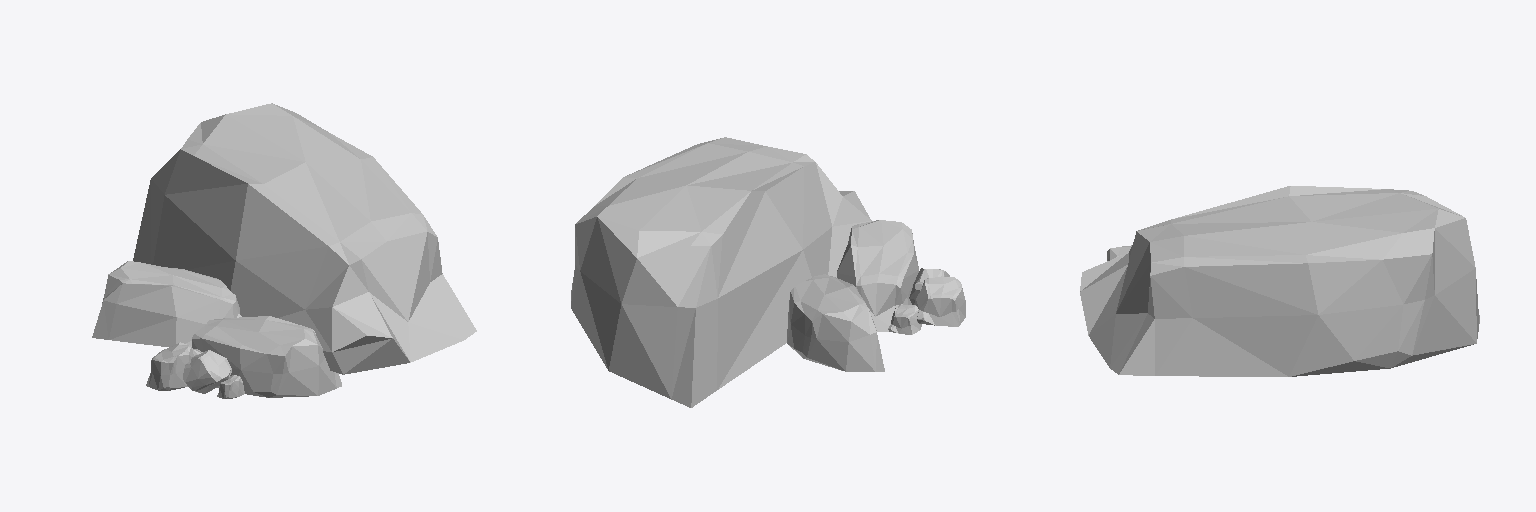
Rendered from rock_Group_1.obj.
3 renders of one model, left to right at view 1: azimuth 30°, elevation 25°; view 2: azimuth 150°, elevation 25°; view 3: azimuth 270°, elevation 25°, orthographic.
Visible parts, largest first — view 1: rock_Group_1:pCube9; view 2: rock_Group_1:pCube9; view 3: rock_Group_1:pCube9.
Part boxes in pixels (left/top/right/bottom): rock_Group_1:pCube9: left=92, top=103, right=476, bottom=398; rock_Group_1:pCube9: left=571, top=137, right=965, bottom=407; rock_Group_1:pCube9: left=1080, top=186, right=1479, bottom=376.
Bounding box in the file's own units: 20.77 × 9.66 × 23.87.